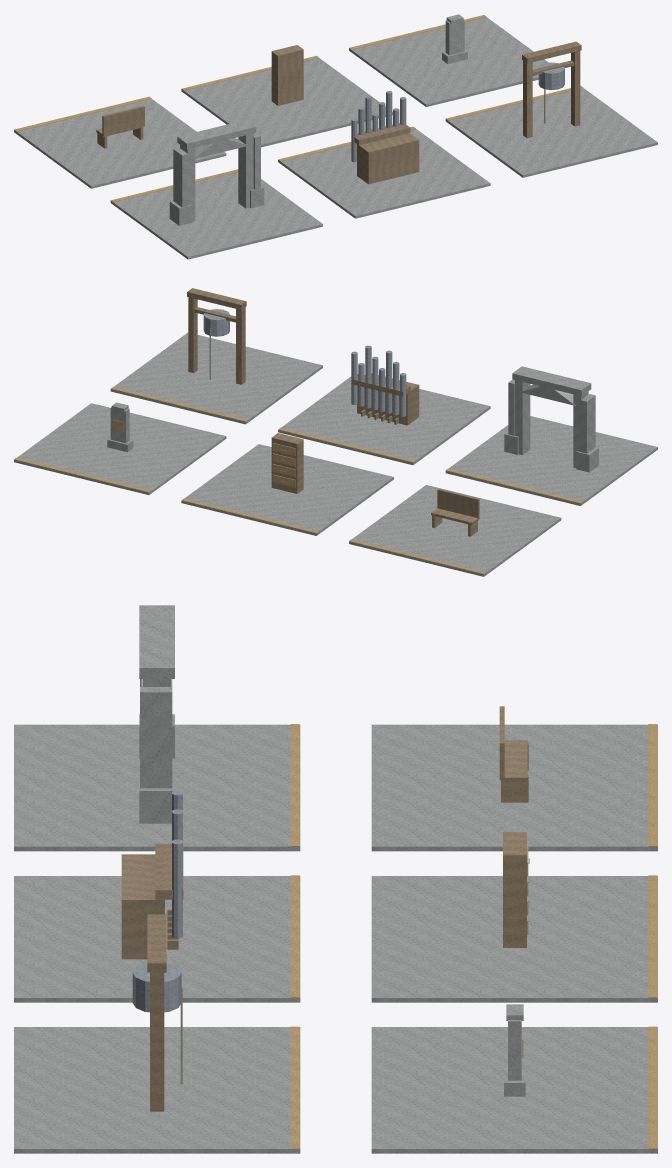
Rendered from level_blockout_kit_wld_10_p01.glb.
The picture shows the model from 3 angles, top to bottom: view 1: azimuth 30°, elevation 25°; view 2: azimuth 150°, elevation 25°; view 3: azimuth 270°, elevation 25°; orthographic projection. The views are drawn at different scales.
Parts seen in each view (by area): view 1: level_blockout_kit_wld_10_p01; view 2: level_blockout_kit_wld_10_p01; view 3: level_blockout_kit_wld_10_p01.
Part boxes in pixels (x1=…): level_blockout_kit_wld_10_p01: x1=14, y1=14, x2=657, y2=259; level_blockout_kit_wld_10_p01: x1=14, y1=288, x2=657, y2=576; level_blockout_kit_wld_10_p01: x1=14, y1=605, x2=657, y2=1153.
Size of the model in its own units: 19.65 by 3.32 by 12.6.
5 materials, 5 textured.
